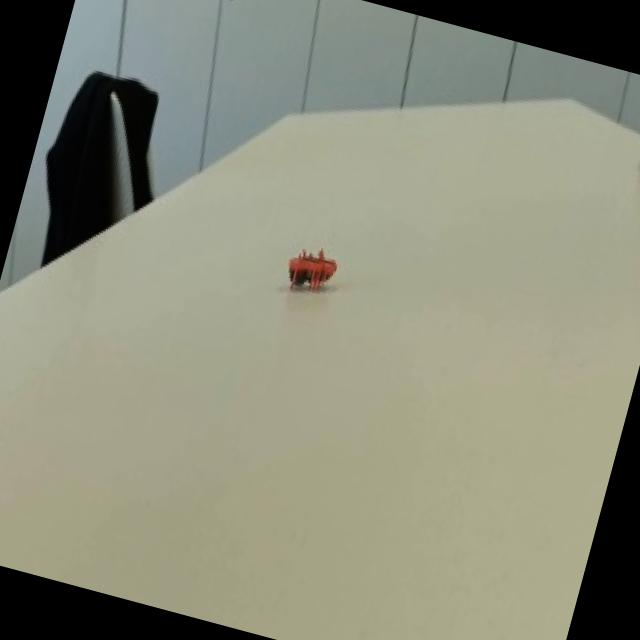7_NanoBug_Naranja: (254, 206, 366, 334)
